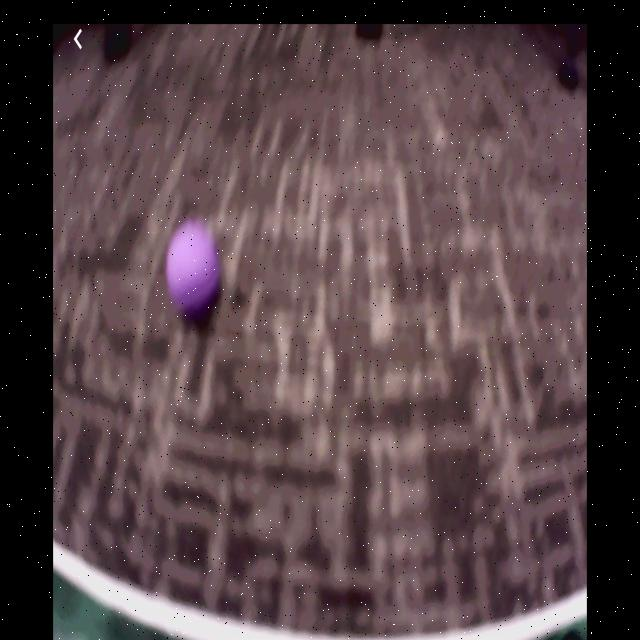ball: (165, 222, 218, 306)
